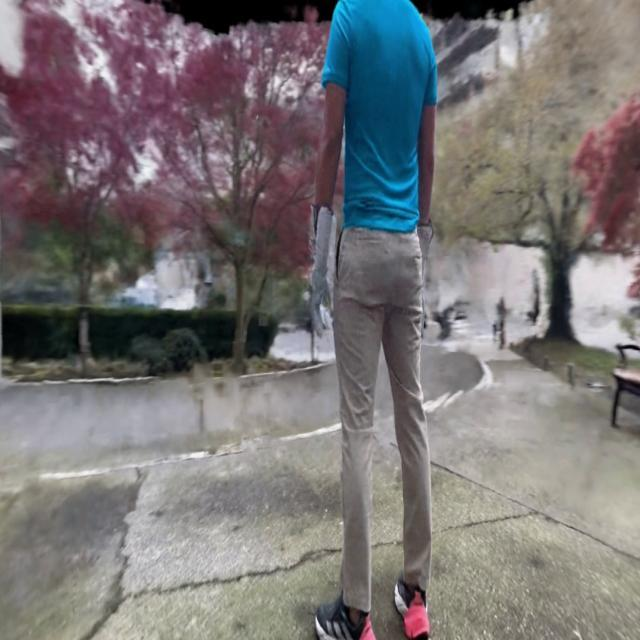gloves: (304, 197, 336, 343)
